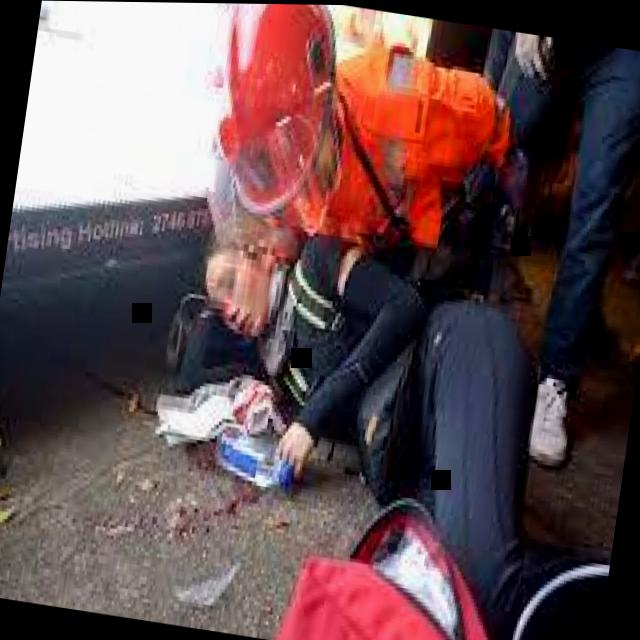Fall-Detected: (131, 177, 640, 640)
